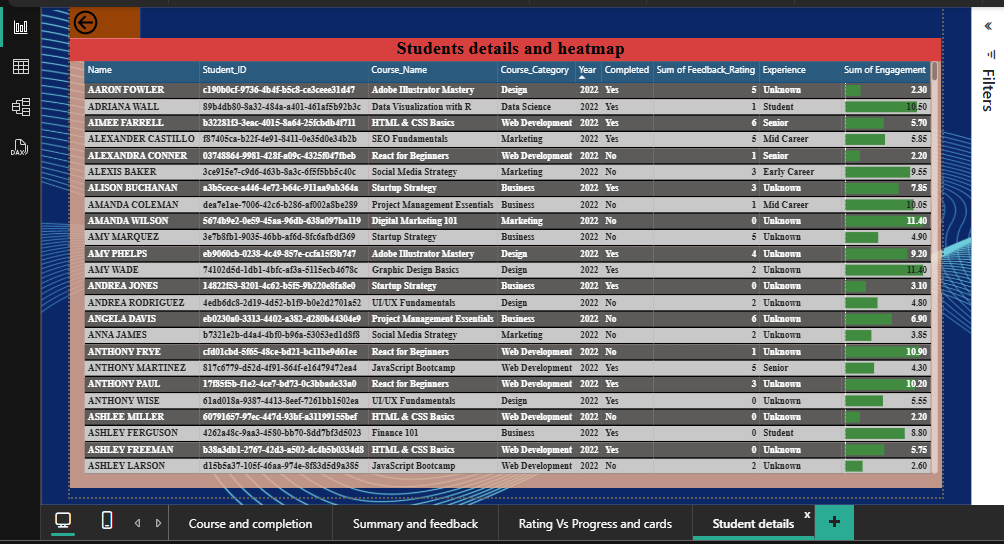

Layout of this report page (visuals, bound fields, positions):
{"tool":"powerbi","page":{"name":"Student details","canvas":[1280,720],"ordinal":3},"visuals":[{"type":"tableEx","title":"Students details and heatmap","fields":{"Values":["Table1.Name","Table1.Student_ID","Table1.Course_Name","Table1.Course_Category","Table1.Enrollment_Date.Variation.Date Hierarchy.Year","Table1.Completed","Table1.Feedback_Rating","Table1.Experience","Table1.Engagement "]},"box":[0,45.6,1279.8,659.8],"z":0},{"type":"actionButton","box":[0,0,102.9,45.6],"z":1000}]}

Visuals, with their boxes on the page's 1280x720 design canvas (x1, y1, x2, y2). These are canvas units, not pixel positions in the 1004x544 screenshot, which may show the page scaled, cropped or inside an application window:
"Students details and heatmap" tableEx: region(0, 46, 1280, 705)
actionButton: region(0, 0, 103, 46)
